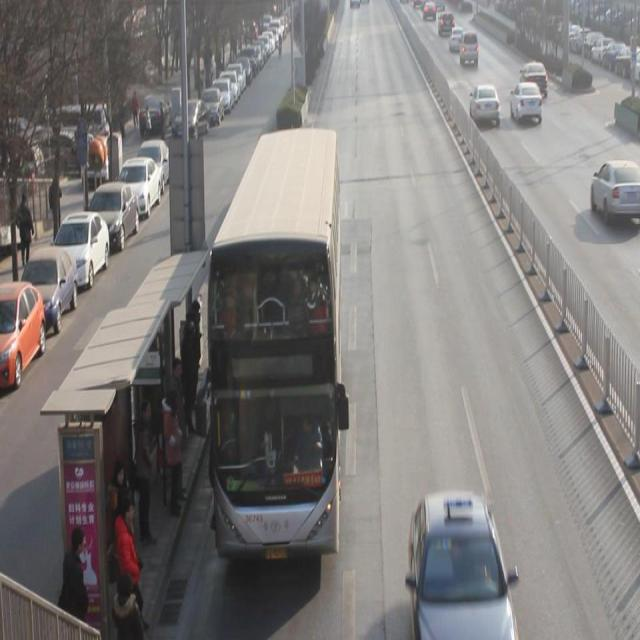car: (407, 490, 513, 640), (591, 160, 640, 224), (509, 81, 544, 125), (469, 84, 501, 128), (518, 61, 548, 97), (448, 24, 464, 53), (438, 10, 455, 36)
truck: (458, 29, 479, 67)
van: (205, 132, 338, 551)
